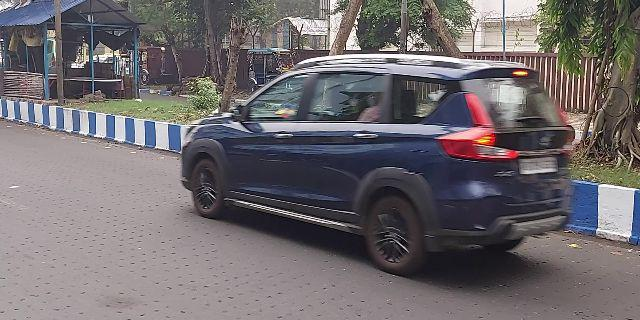Car: (177, 57, 579, 274)
